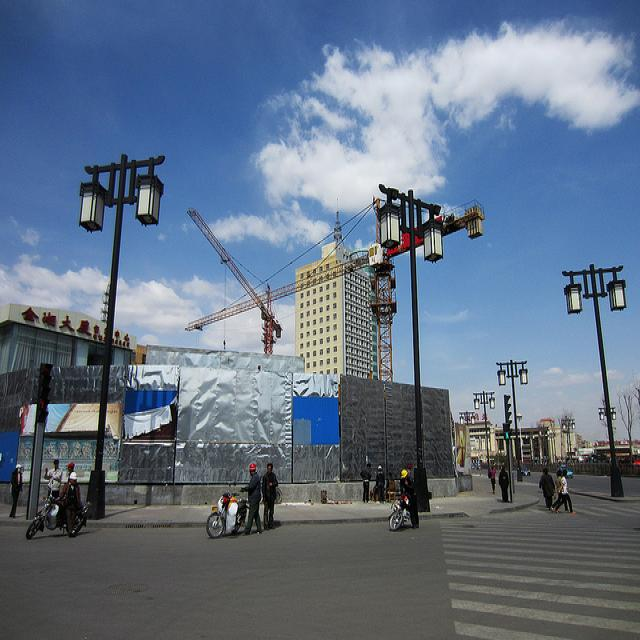motor: (27, 483, 92, 538), (206, 491, 247, 538), (388, 487, 416, 531)
